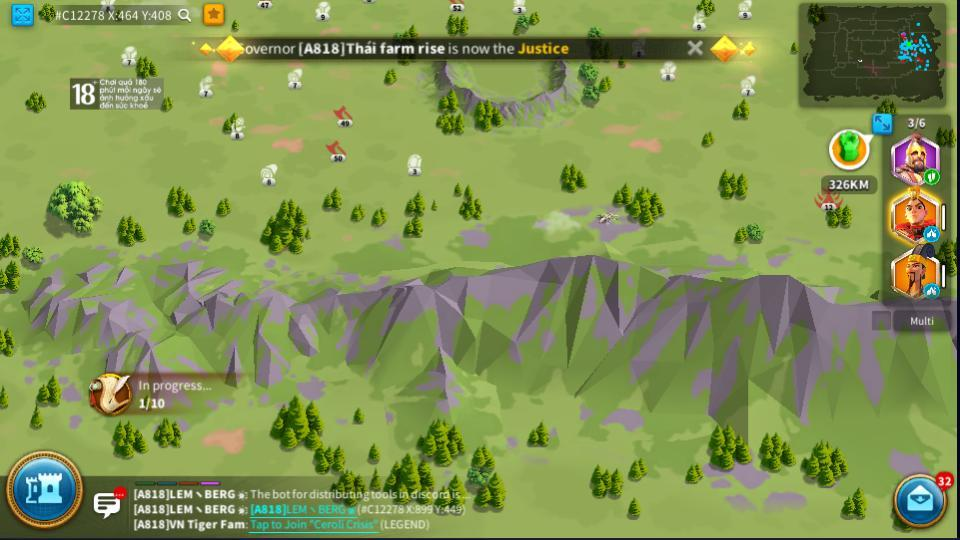gem-z-out: (511, 0, 527, 11)
march_idle: (923, 284, 939, 299), (923, 227, 938, 239)
march_marching: (923, 170, 938, 184)
